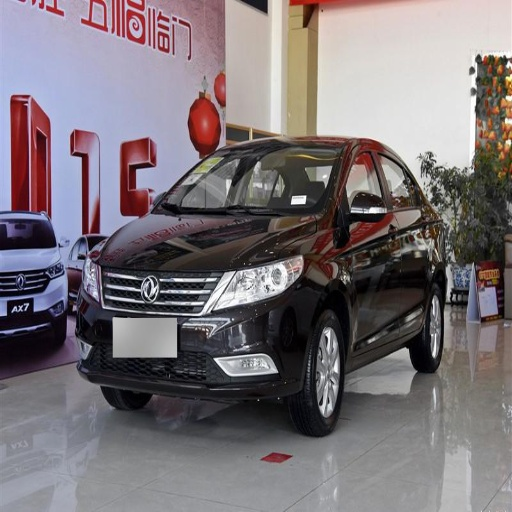front_bumper: (76, 266, 318, 398)
front_glass: (153, 140, 340, 213)
front_left_door: (341, 142, 402, 342)
